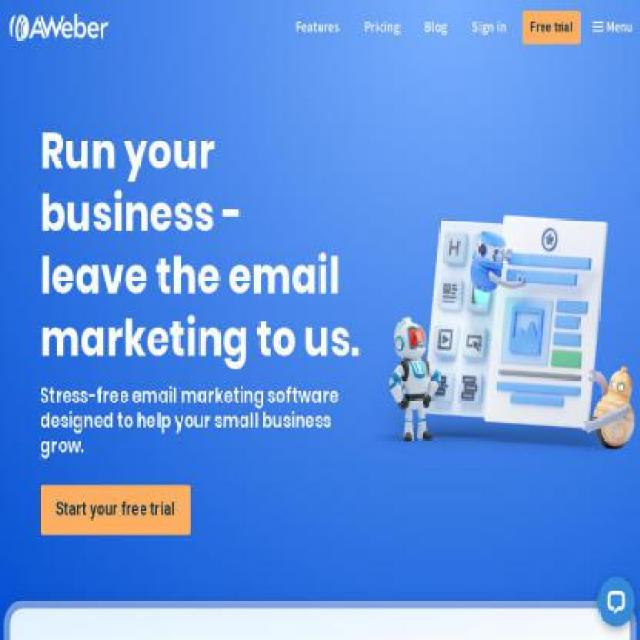button: (40, 484, 191, 536), (282, 0, 352, 54), (352, 0, 412, 54), (460, 0, 518, 54), (412, 0, 459, 54), (9, 13, 91, 41), (522, 10, 581, 44)
